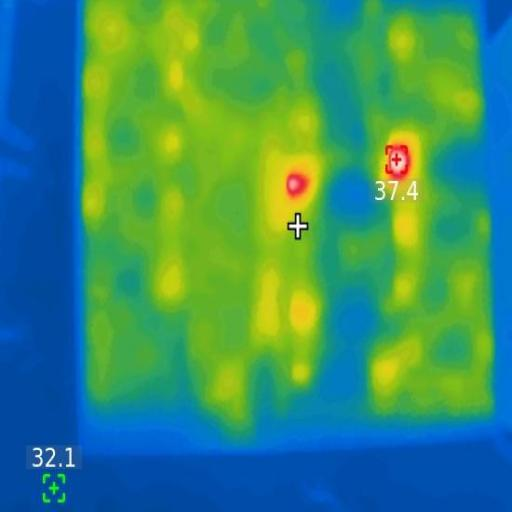hotspot: (384, 140, 414, 180), (287, 169, 311, 198)
